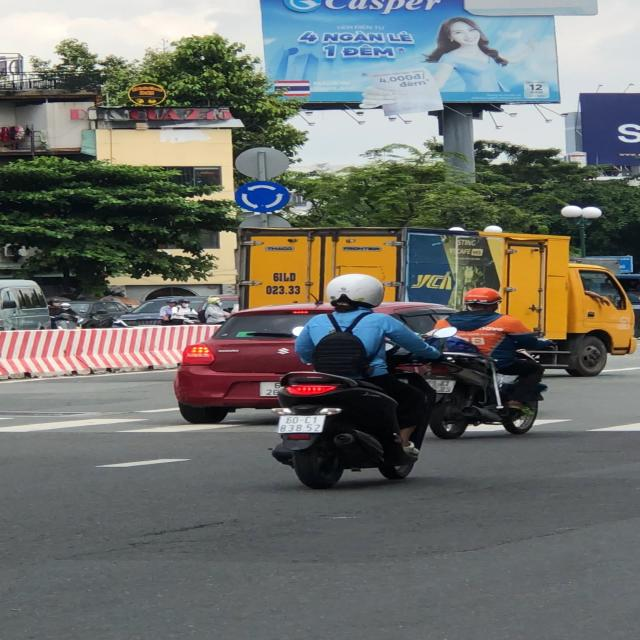Bien bao noi giao nhau chay theo vong xuyen: (230, 179, 294, 214)
